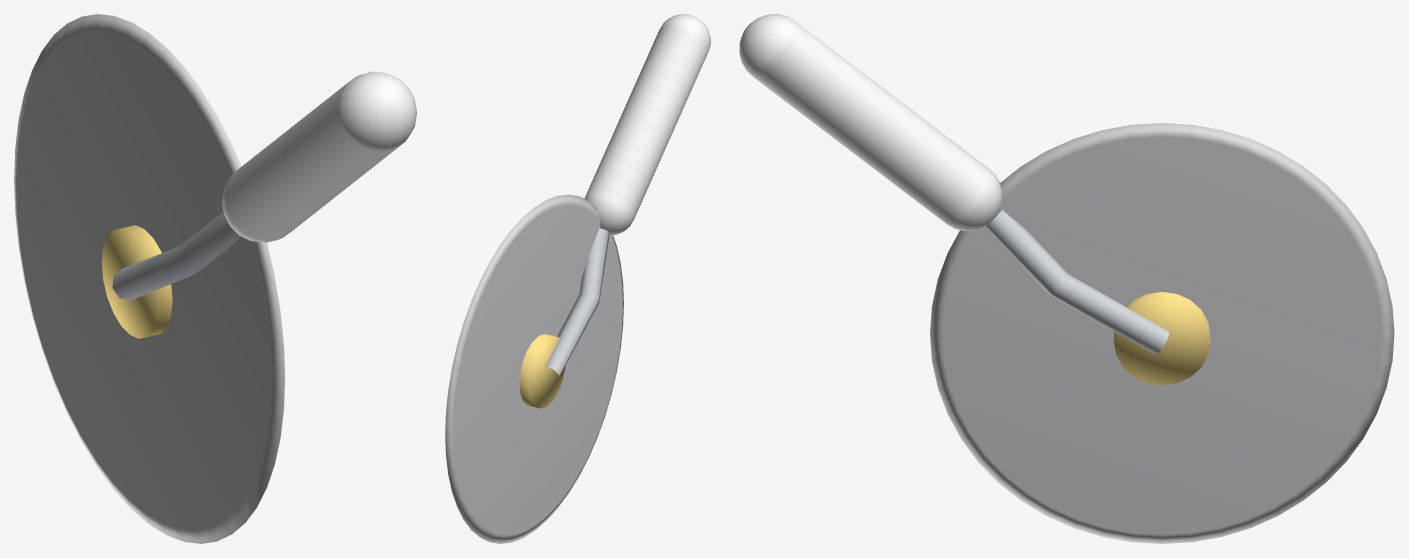
The model's file is EatsaPizzaCutter.glb.
3 renders of one model, left to right at view 1: azimuth 30°, elevation 25°; view 2: azimuth 150°, elevation 25°; view 3: azimuth 270°, elevation 25°, orthographic. The views are drawn at different scales.
Parts seen in each view (by area): view 1: Wheel, Handle, Hub, Fork; view 2: Wheel, Handle, Fork, Hub; view 3: Wheel, Handle, Fork, Hub.
Boxes of the visible parts, box(x1,y1,x2,y2) form: Wheel: box(14, 14, 284, 543); Handle: box(222, 71, 416, 242); Hub: box(101, 225, 172, 338); Fork: box(112, 212, 240, 300); Wheel: box(445, 194, 623, 543); Handle: box(584, 14, 710, 235); Fork: box(545, 228, 609, 377); Hub: box(519, 334, 565, 408); Wheel: box(930, 123, 1394, 543); Handle: box(739, 14, 1002, 231); Fork: box(985, 210, 1169, 354); Hub: box(1114, 292, 1210, 385).
Bounding box in the file's own units: 1.14 × 9 × 10.15.
